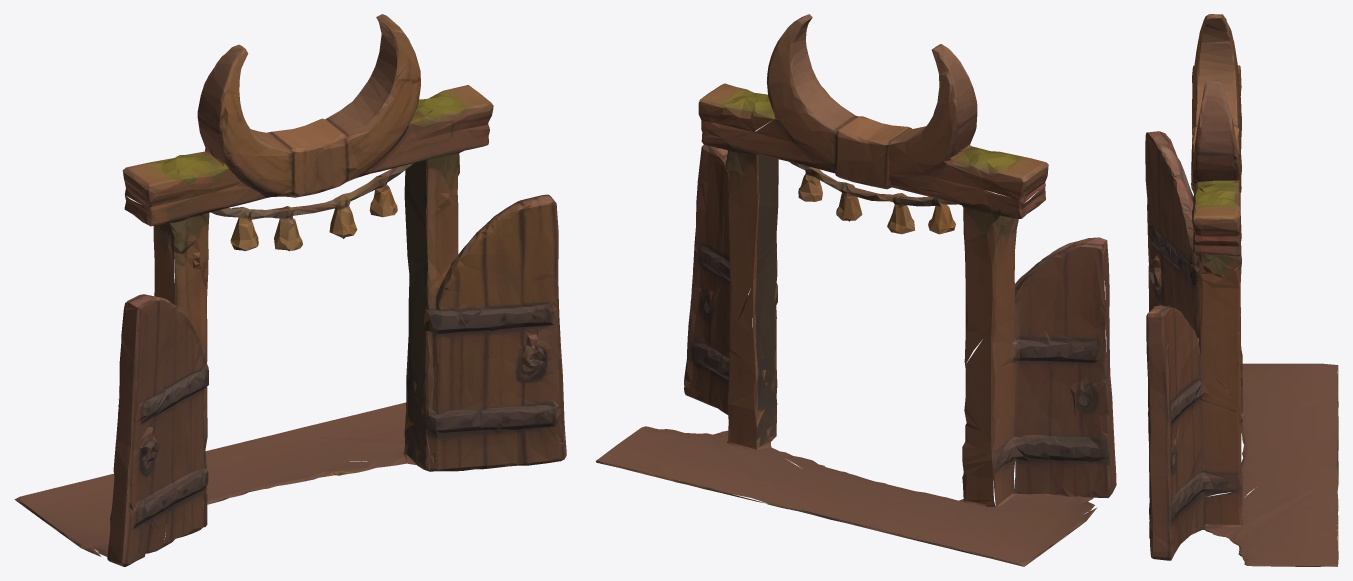
File: gate_east.glb
The picture shows the model from 3 angles, left to right: view 1: azimuth 30°, elevation 25°; view 2: azimuth 150°, elevation 25°; view 3: azimuth 270°, elevation 25°; orthographic projection. The views are drawn at different scales.
Visible parts, largest first — view 1: geometry_0; view 2: geometry_0; view 3: geometry_0.
Part boxes in pixels (x1=…): geometry_0: x1=14, y1=14, x2=566, y2=566; geometry_0: x1=595, y1=14, x2=1116, y2=566; geometry_0: x1=1145, y1=14, x2=1338, y2=566.
Size of the model in its own units: 3.2 by 3.13 by 1.3.
Materials: 1 (1 with a texture image).
